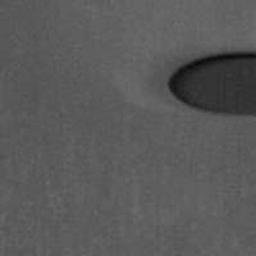Punching: (169, 51, 256, 119)
